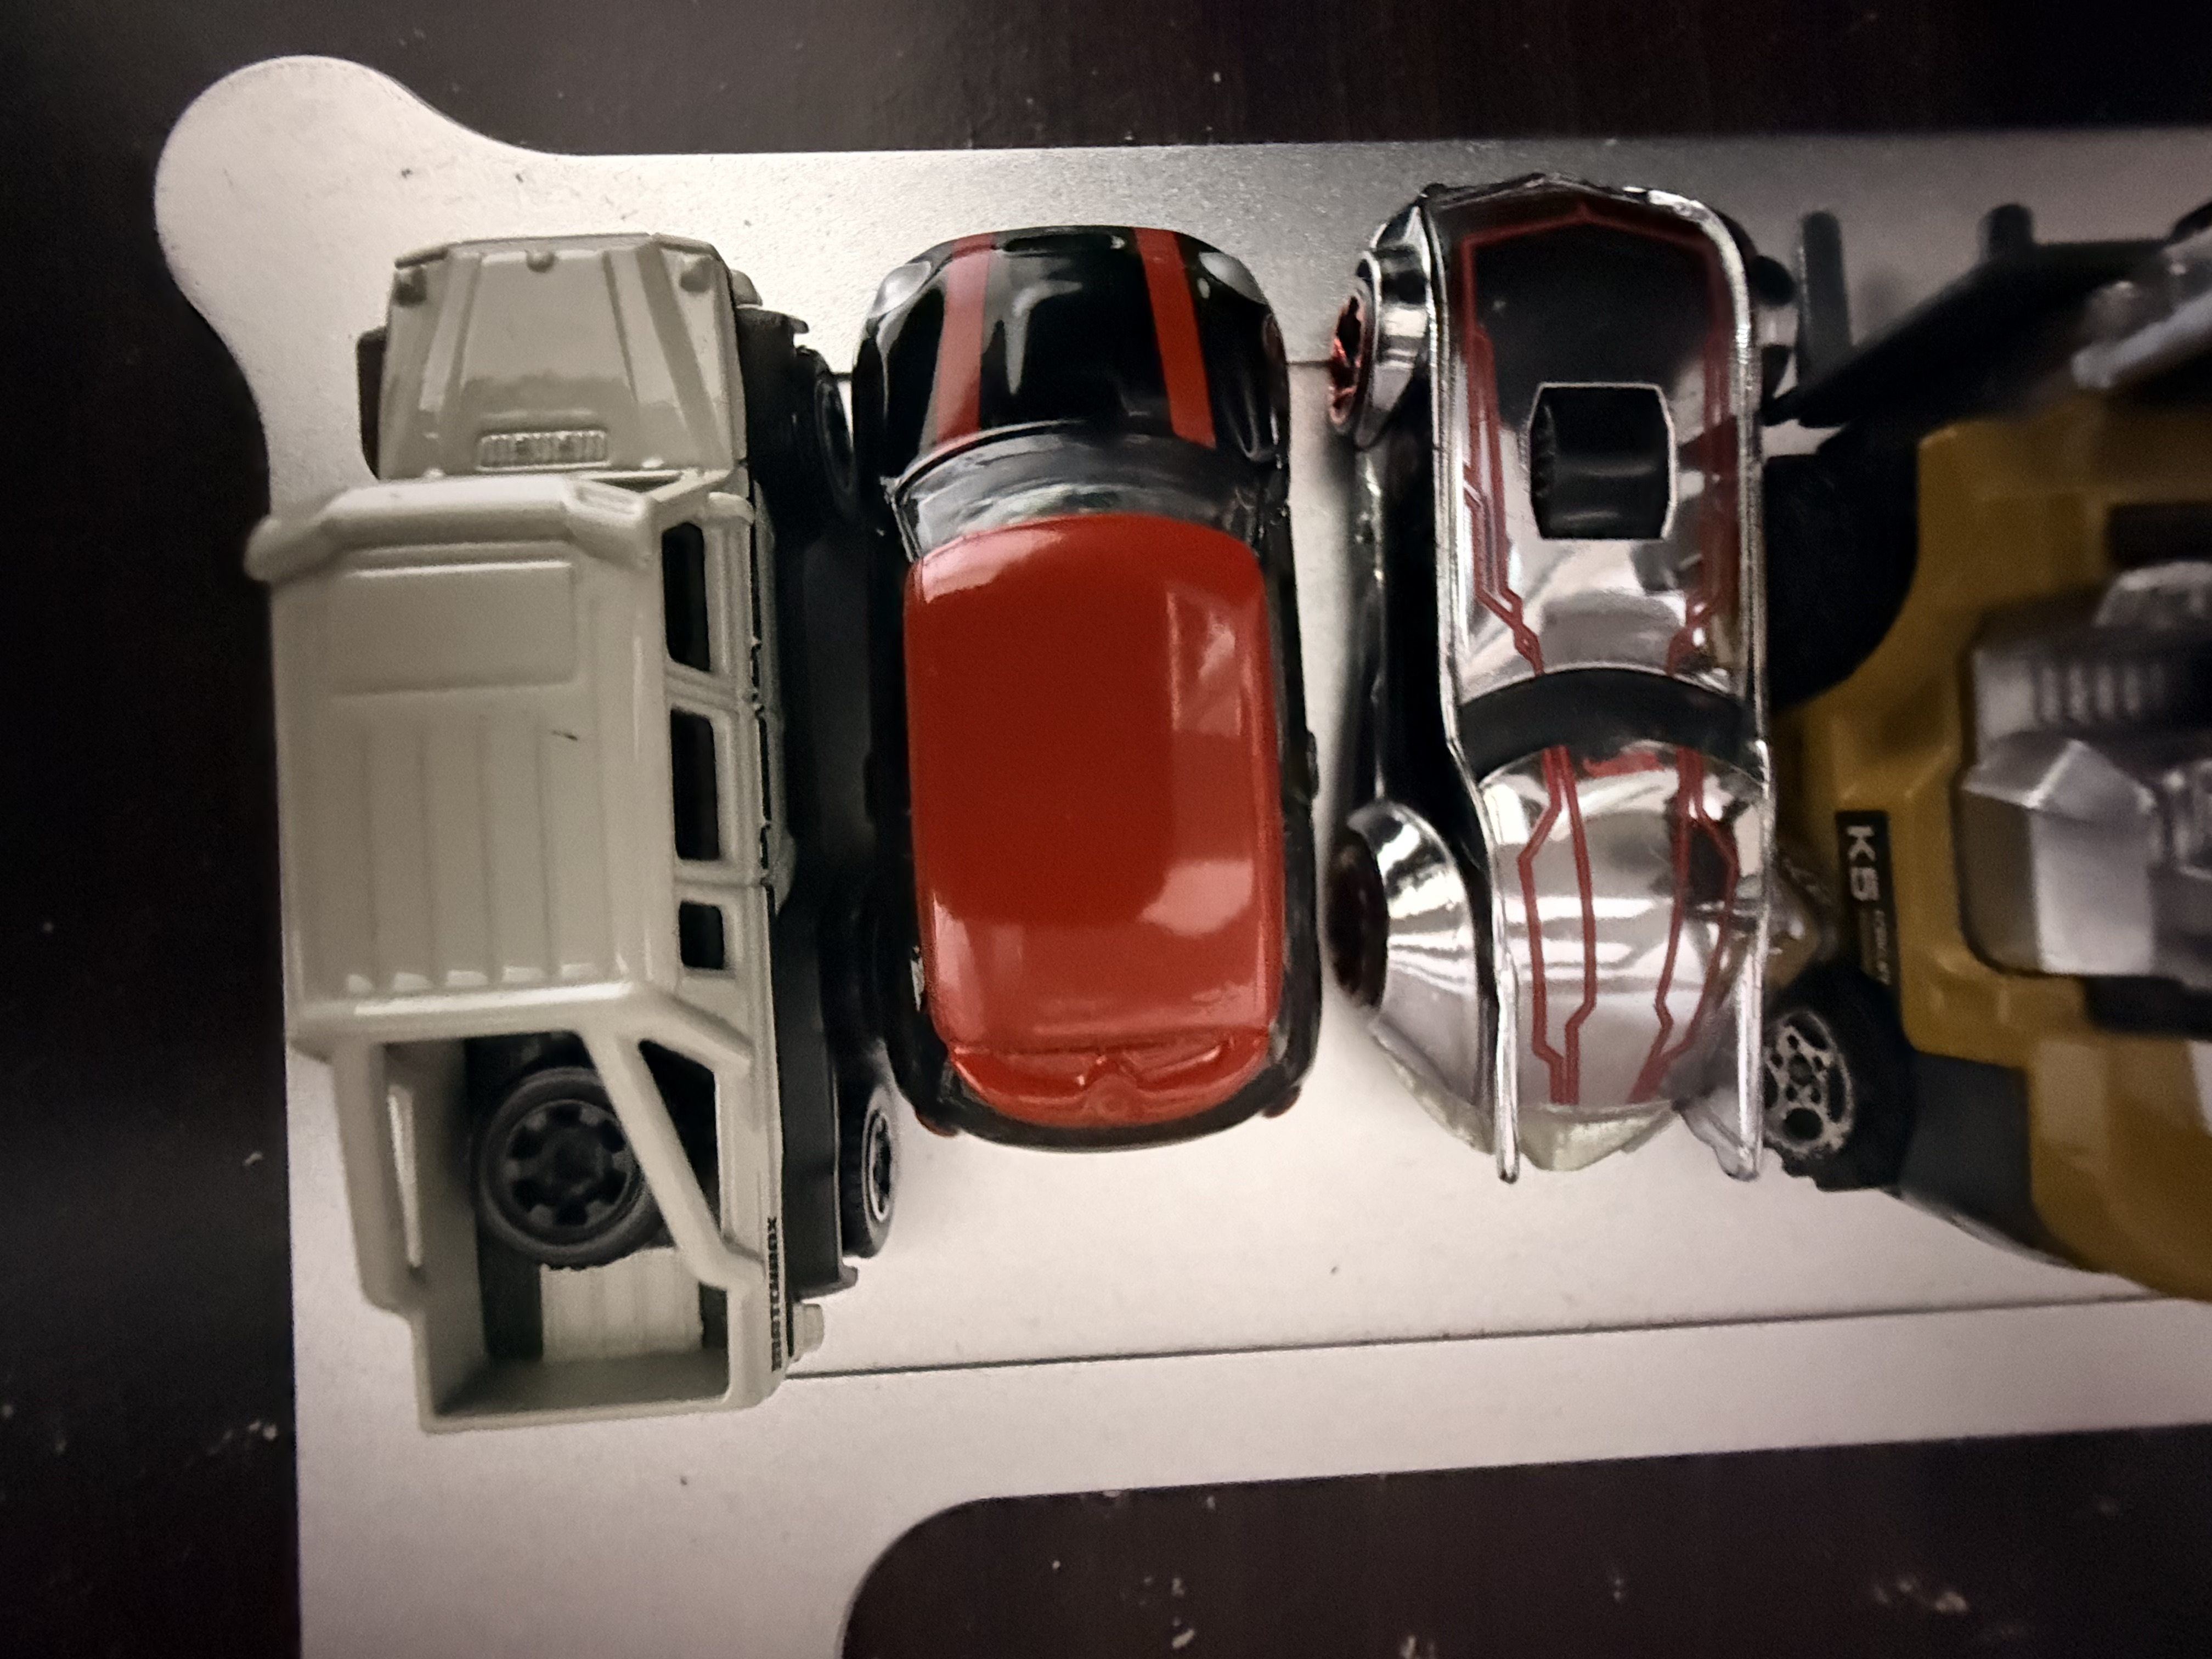dc_comics: (1327, 164, 1799, 1183)
forklift: (1768, 169, 2212, 1305)
mercedes_benz: (247, 232, 900, 1436)
mini_cooper: (857, 223, 1325, 1154)
